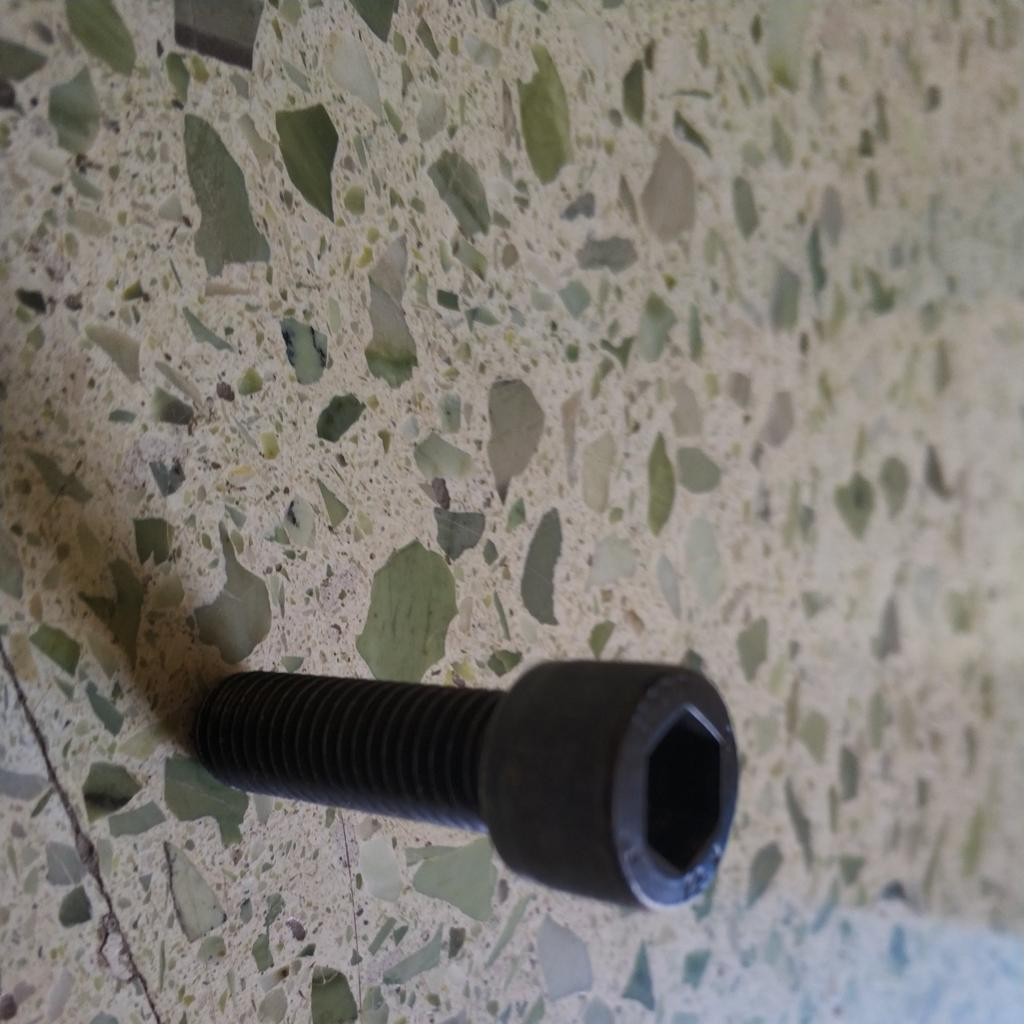screwtype1black: (201, 650, 742, 916)
